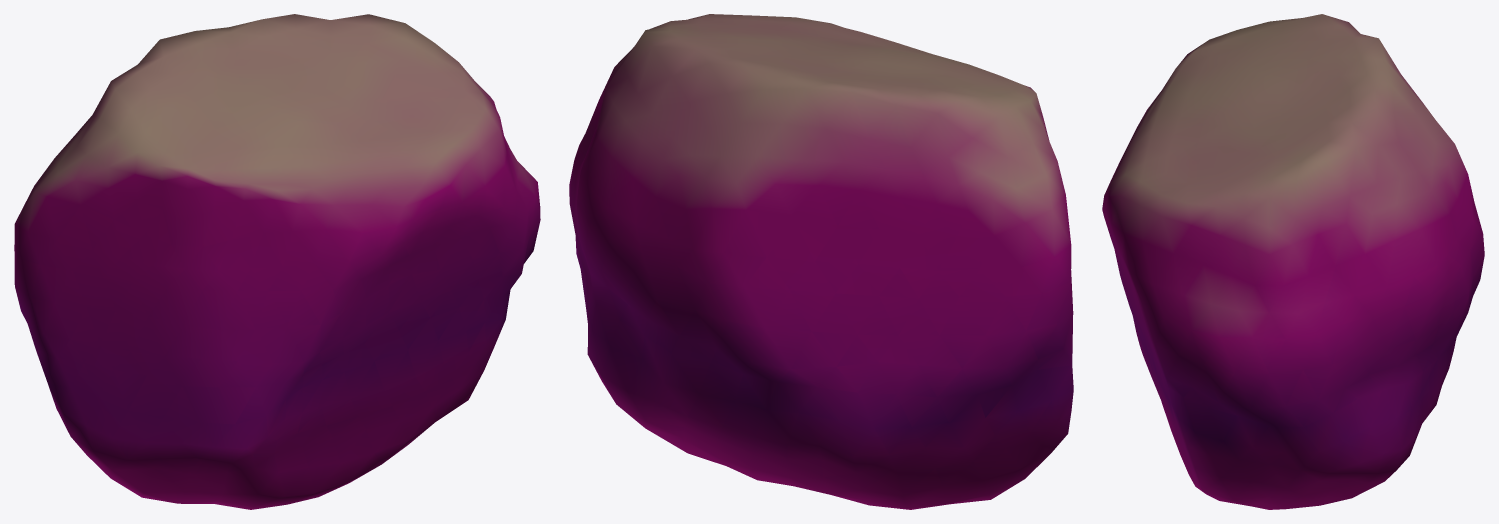
File: veg_rock_b.glb
3 renders of one model, left to right at view 1: azimuth 30°, elevation 25°; view 2: azimuth 150°, elevation 25°; view 3: azimuth 270°, elevation 25°, orthographic. The views are drawn at different scales.
Parts seen in each view (by area): view 1: veg_rock_b_LOD0; view 2: veg_rock_b_LOD0; view 3: veg_rock_b_LOD0.
Part boxes in pixels (<box>): veg_rock_b_LOD0: <box>14,14,540,509</box>; veg_rock_b_LOD0: <box>569,14,1073,509</box>; veg_rock_b_LOD0: <box>1102,14,1484,509</box>.
Size of what is drawn, in the model's own units: 1.11 by 0.9264 by 0.7721.
